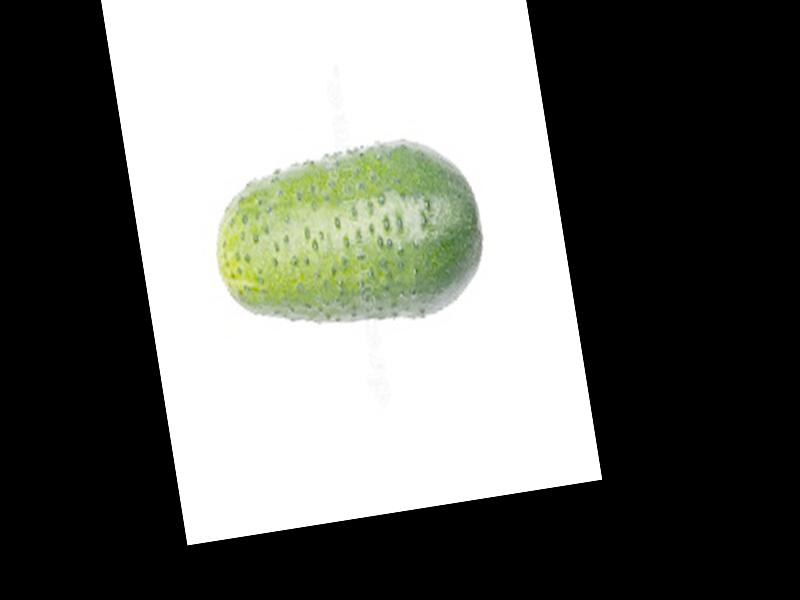Cucumber: (201, 126, 494, 348)
